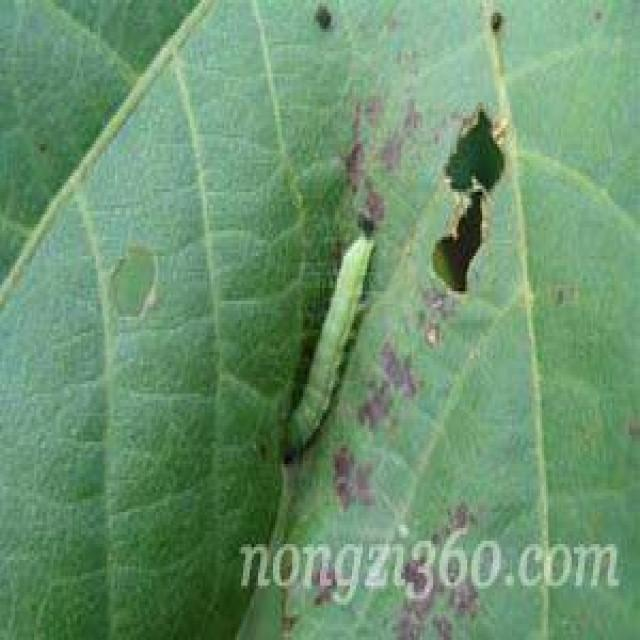BeetArmyWorm-Larva-: (272, 226, 387, 468)
